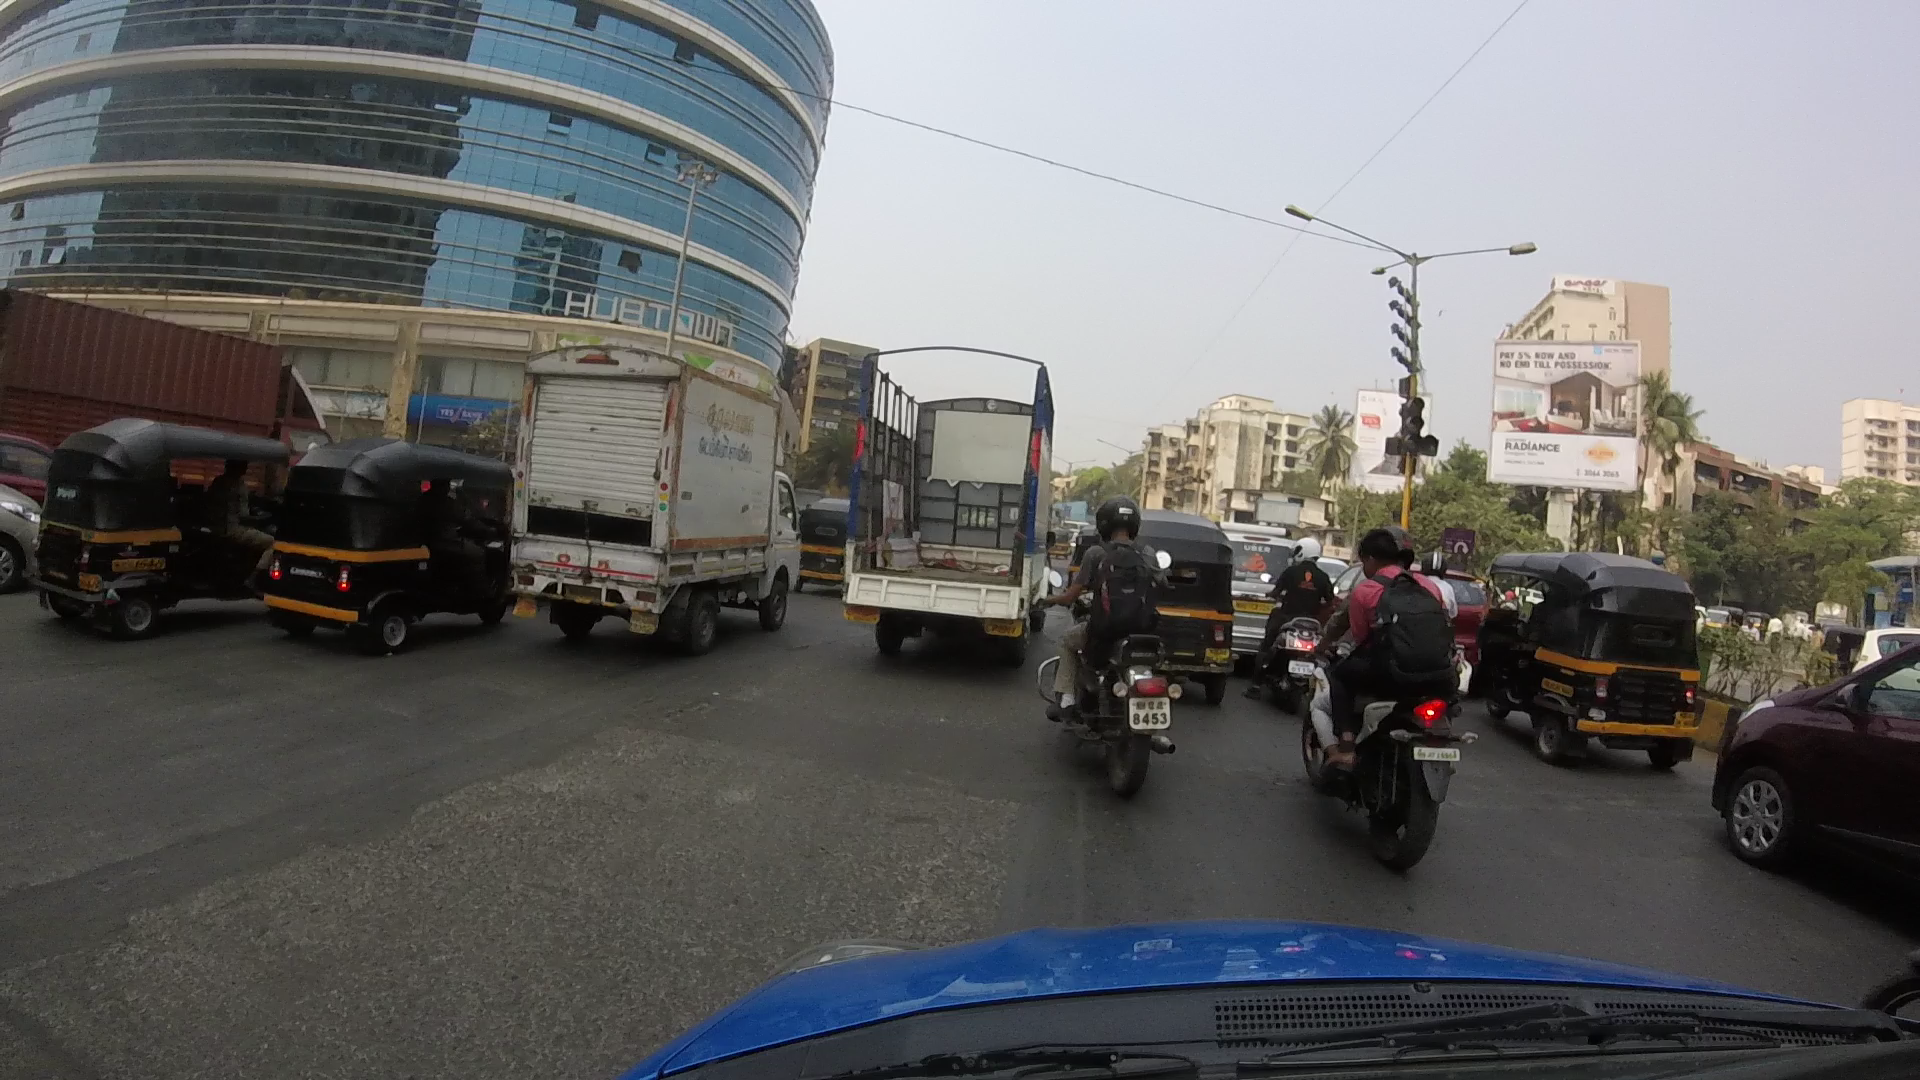bike/scooter: (1323, 522, 1452, 866), (1055, 501, 1172, 793), (1261, 524, 1325, 686)
car: (1712, 647, 1920, 866)
rickshaw: (278, 448, 553, 657), (1481, 539, 1716, 771), (32, 427, 299, 626)
truck: (516, 342, 793, 642), (837, 330, 1046, 654)
